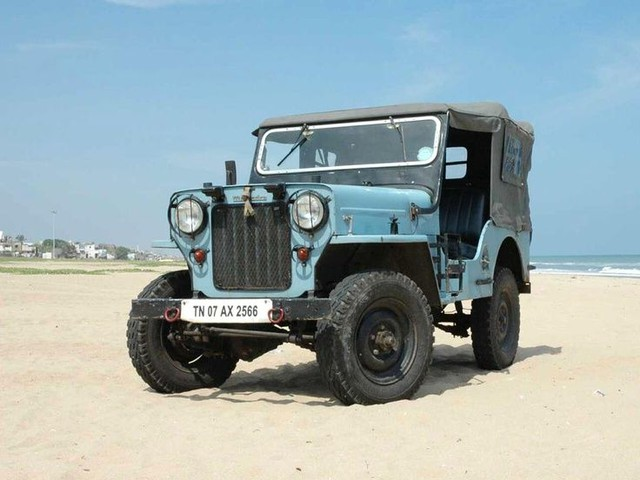Vehicle: (115, 98, 538, 402)
